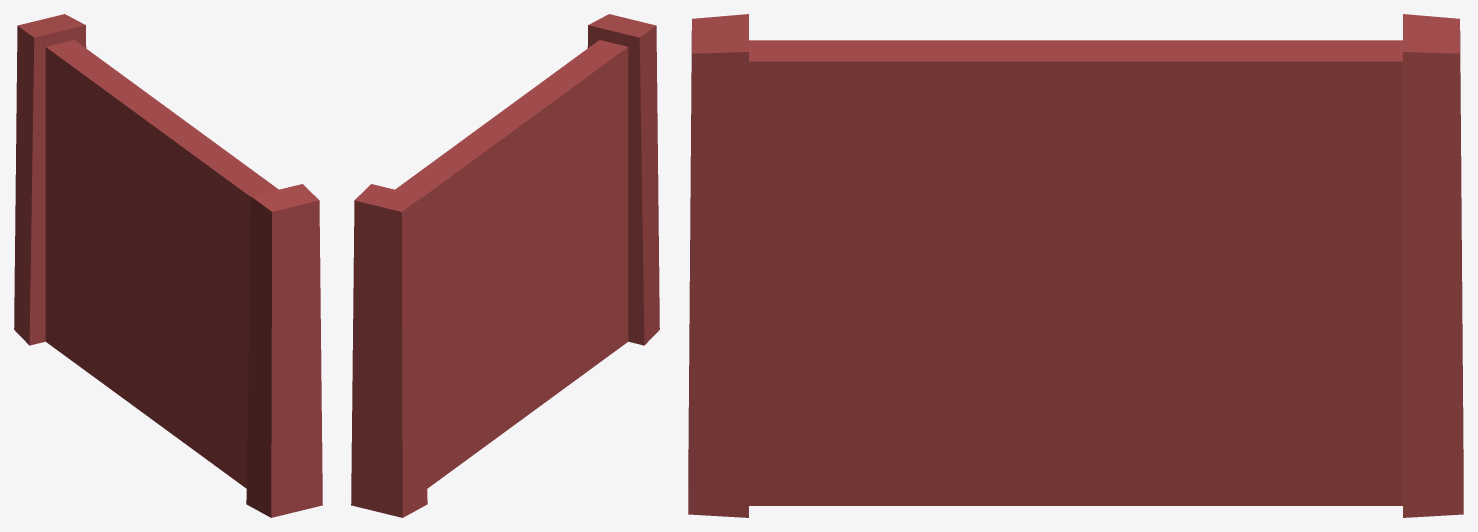
File: Prop_Fence.FBX
3 views of the same model, side by side, from view 1: azimuth 30°, elevation 25°; view 2: azimuth 150°, elevation 25°; view 3: azimuth 270°, elevation 25° (orthographic). The views are drawn at different scales.
Parts seen in each view (by area): view 1: Box007; view 2: Box007; view 3: Box007.
Boxes of the visible parts, bbox=[...] form: Box007: bbox=[14, 14, 322, 517]; Box007: bbox=[351, 14, 659, 517]; Box007: bbox=[688, 14, 1463, 517].
Bounding box in the file's own units: 32.49 × 156 × 237.
